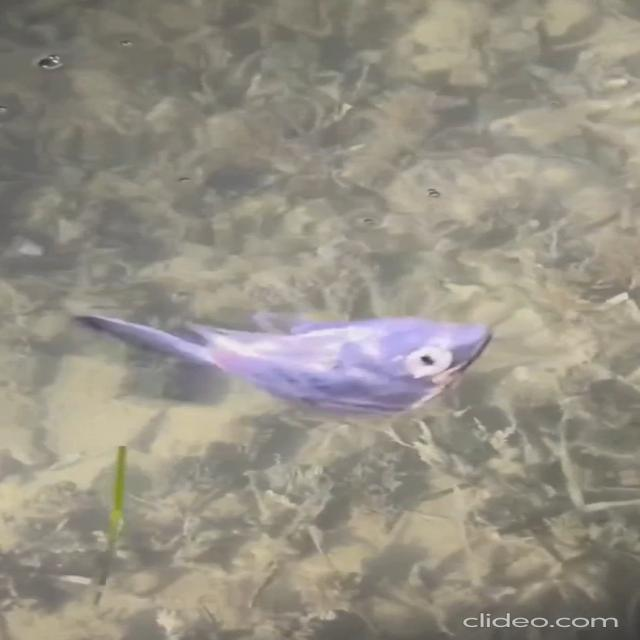fish: (75, 289, 508, 428)
